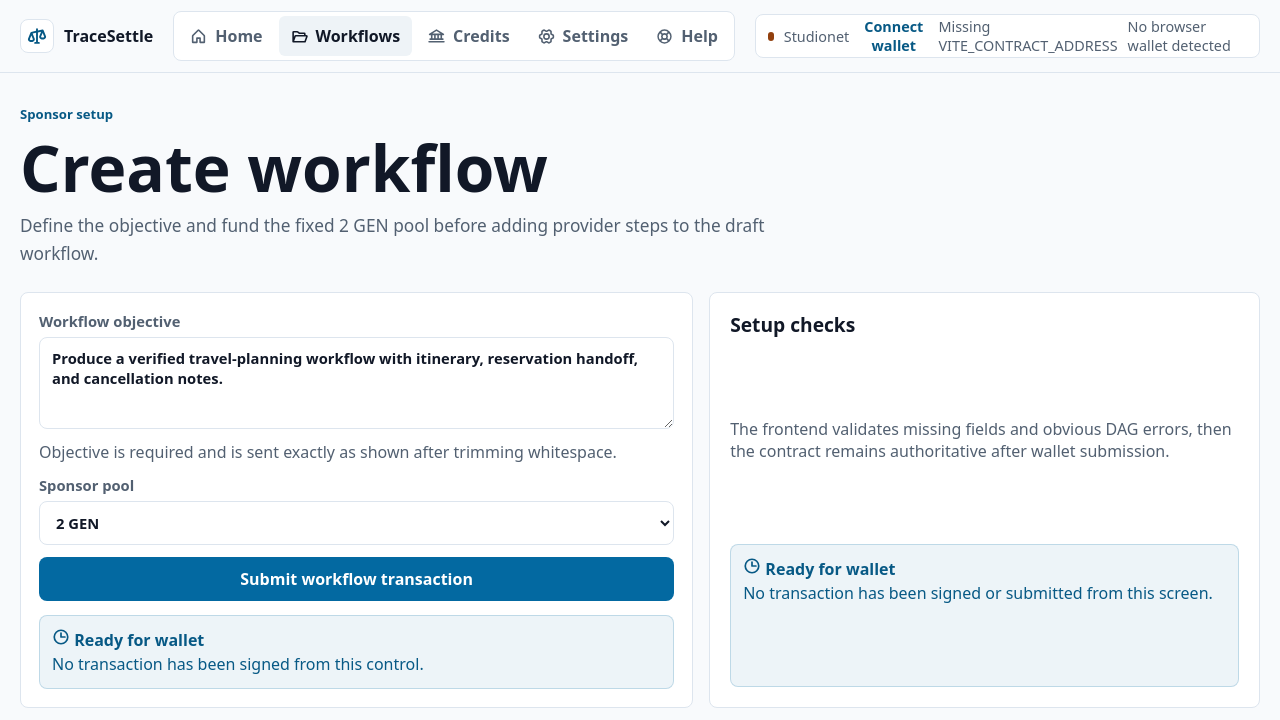
it: TraceSettle route map › blocks live actions honestly until a contract address is configured
Click the button "Submit workflow transaction". click: (357, 578)
box: [39, 556, 674, 600]
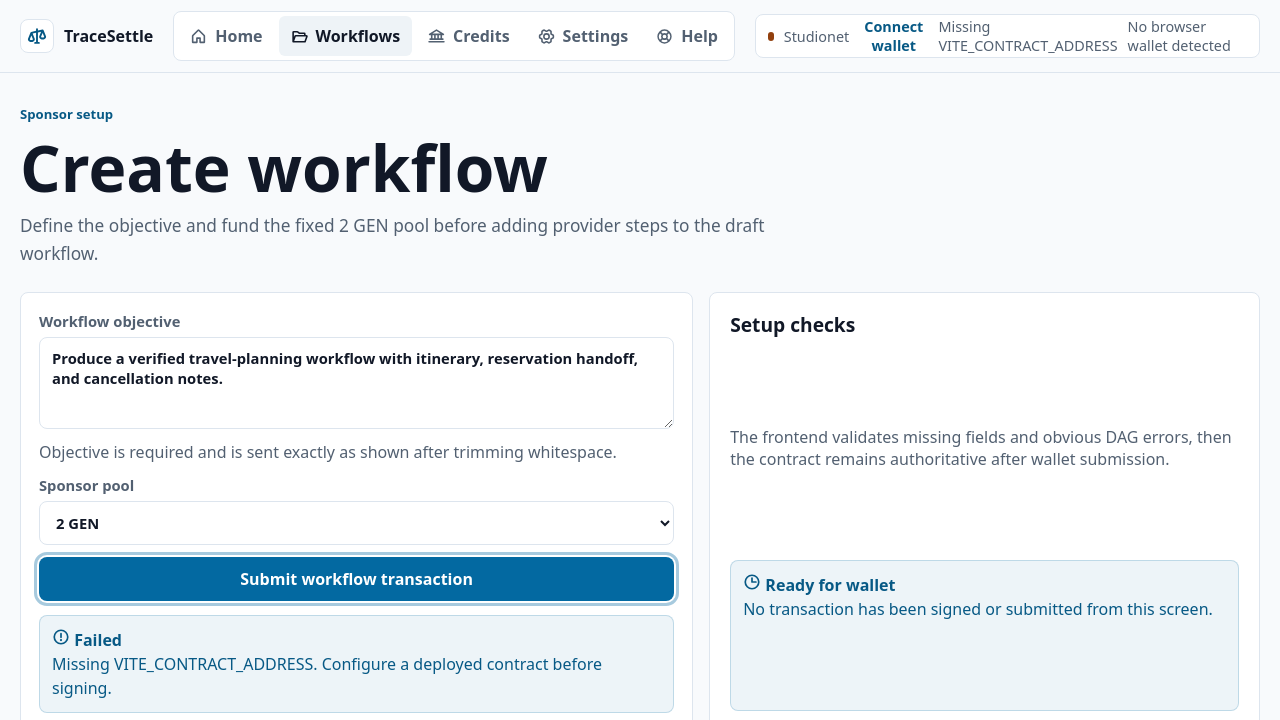
Expected: the text "Missing VITE_CONTRACT_ADDRESS. Configure a deployed contract before signing." is shown, [52, 652, 661, 700]
